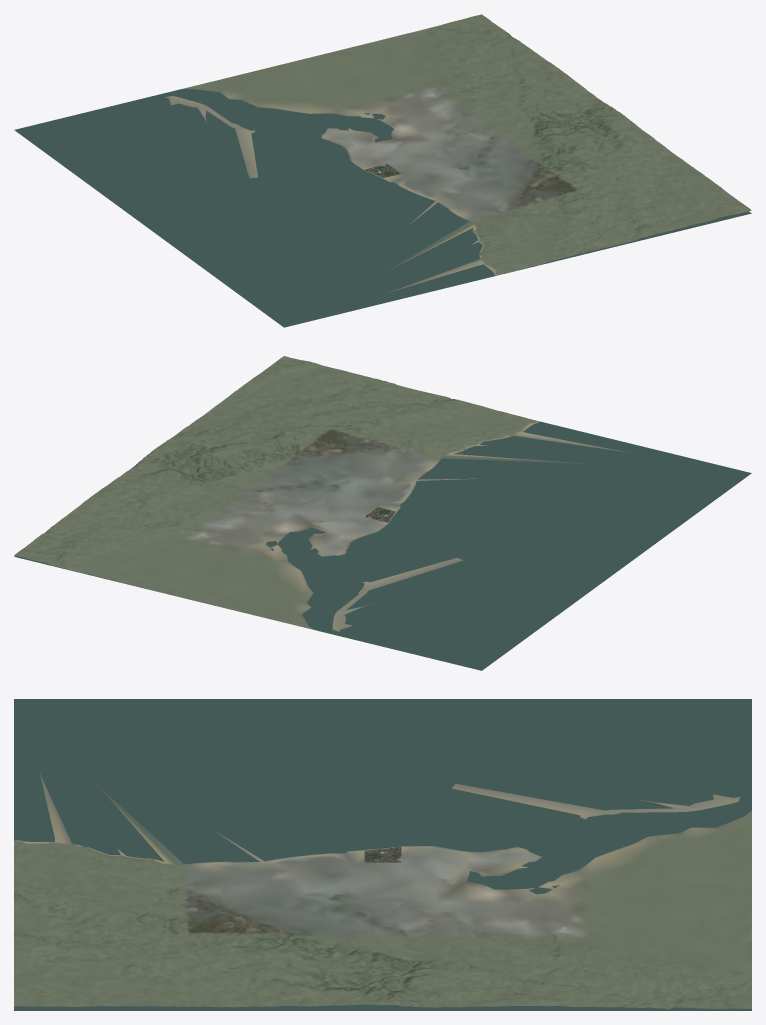
Rendered from football_park_backdrop_part1.glb.
3 renders of one model, top to bottom at view 1: azimuth 30°, elevation 25°; view 2: azimuth 150°, elevation 25°; view 3: azimuth 270°, elevation 25°, orthographic. The views are drawn at different scales.
Visible parts, largest first — view 1: bg_far_terrain, bg_far_water; view 2: bg_far_terrain, bg_far_water; view 3: bg_far_terrain, bg_far_water, bg_near_ground.
Boxes of the visible parts, <box> form: bg_far_terrain: <box>165,14,751,292</box>; bg_far_water: <box>14,89,751,327</box>; bg_far_terrain: <box>14,356,630,631</box>; bg_far_water: <box>14,421,751,670</box>; bg_far_terrain: <box>14,774,751,1009</box>; bg_far_water: <box>14,699,751,1010</box>; bg_near_ground: <box>364,847,401,862</box>.
Size of the model in its own units: 60001 by 707 by 60001.
Materials: 26 (12 with a texture image).
